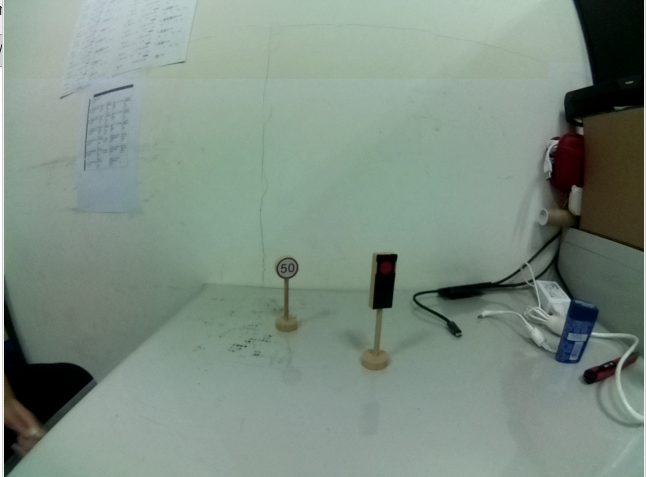Red: (367, 247, 399, 313)
Speed50: (273, 252, 303, 279)
